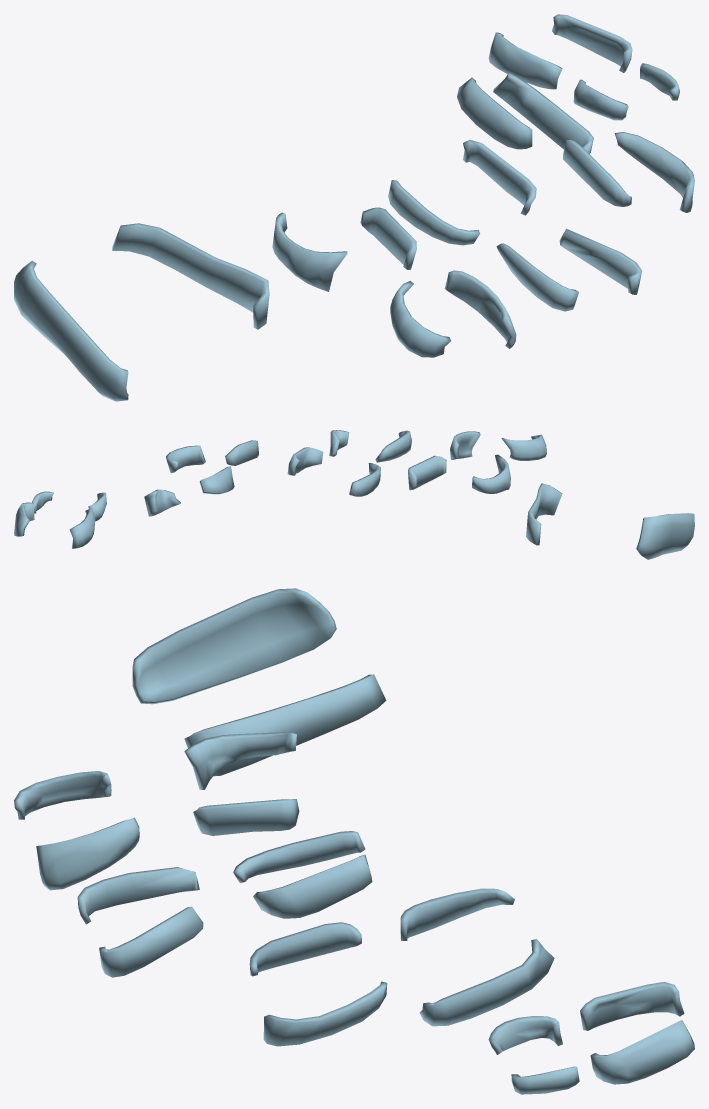
File: articulacoes-collateral-interphalangeal-ligaments-of-foot-l.glb
3 renders of one model, top to bottom at view 1: azimuth 30°, elevation 25°; view 2: azimuth 150°, elevation 25°; view 3: azimuth 270°, elevation 25°, orthographic. The views are drawn at different scales.
Parts seen in each view (by area): view 1: Collateral interphalangeal ligaments of foot.l; view 2: Collateral interphalangeal ligaments of foot.l; view 3: Collateral interphalangeal ligaments of foot.l.
Part boxes in pixels (box(x1,y1,x2,y2)): Collateral interphalangeal ligaments of foot.l: box(14, 14, 694, 401); Collateral interphalangeal ligaments of foot.l: box(14, 430, 694, 559); Collateral interphalangeal ligaments of foot.l: box(14, 588, 694, 1094).
Bounding box in the file's own units: 0.078 × 0.00926 × 0.0544.
